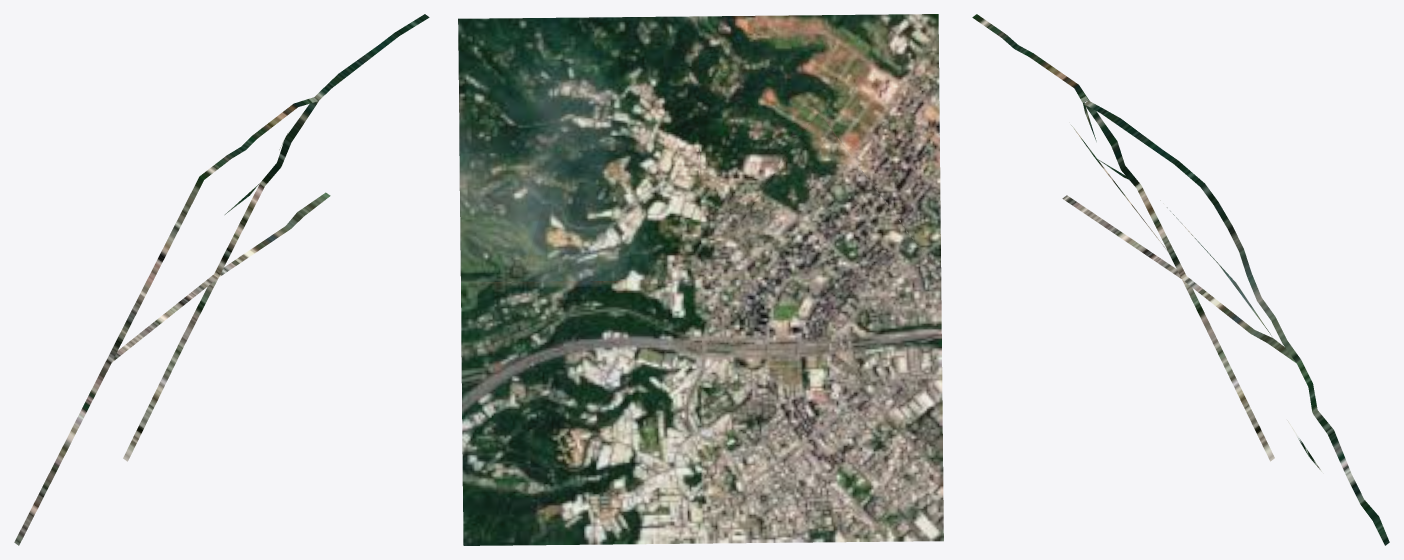
3 renders of one model, left to right at view 1: azimuth 30°, elevation 25°; view 2: azimuth 150°, elevation 25°; view 3: azimuth 270°, elevation 25°, orthographic. The views are drawn at different scales.
Size of the model in its own units: 4944 by 4460 by 4090.
Materials: 1 (1 with a texture image).
